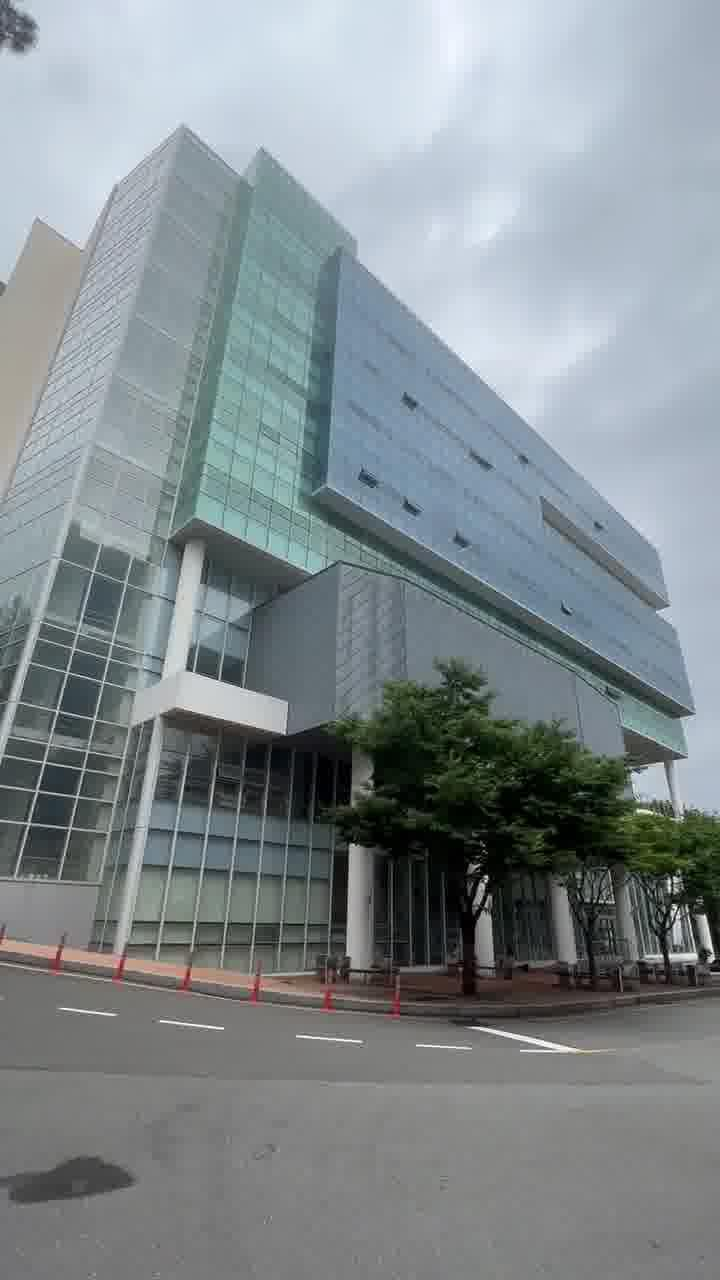building: (28, 172, 642, 736)
